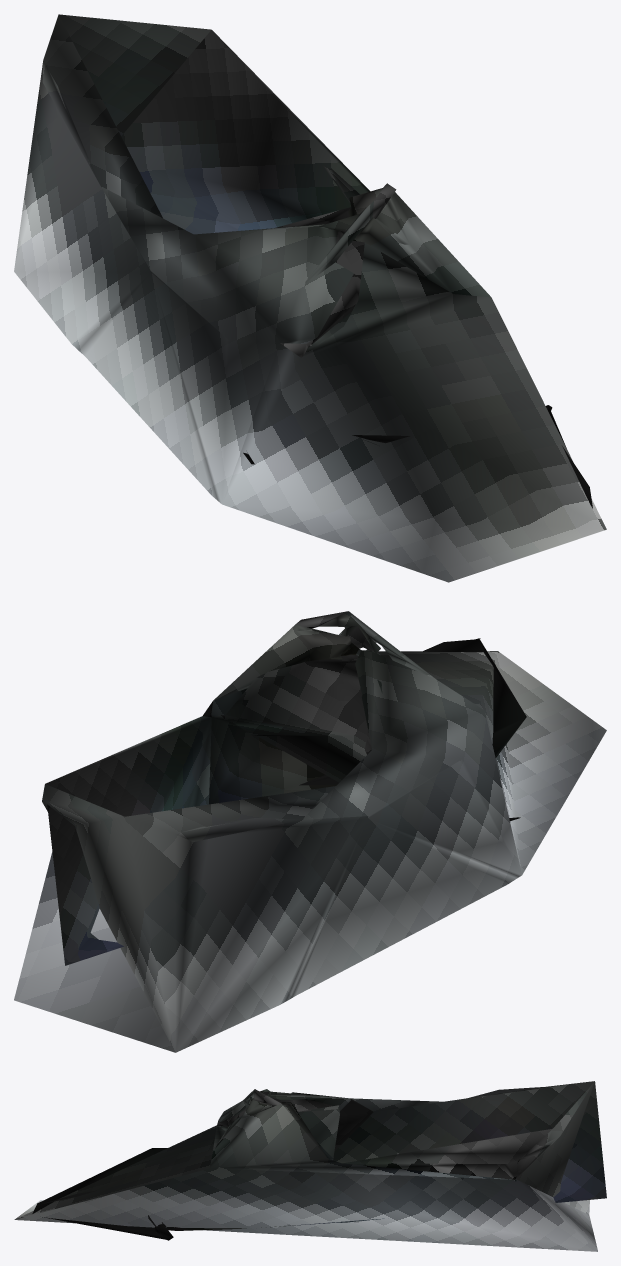
Rendered from Womens_Suede_Bahama_in_Graphite_Suede_t22AJSRjBOX-low.glb.
3 renders of one model, top to bottom at view 1: azimuth 30°, elevation 25°; view 2: azimuth 150°, elevation 25°; view 3: azimuth 270°, elevation 25°, orthographic. The views are drawn at different scales.
Visible parts, largest first — view 1: Womens_Suede_Bahama_in_Graphite_Suede_t22AJSRjBOX; view 2: Womens_Suede_Bahama_in_Graphite_Suede_t22AJSRjBOX; view 3: Womens_Suede_Bahama_in_Graphite_Suede_t22AJSRjBOX.
Boxes of the visible parts, box(x1,y1,x2,y2) form: Womens_Suede_Bahama_in_Graphite_Suede_t22AJSRjBOX: box(14, 14, 606, 582); Womens_Suede_Bahama_in_Graphite_Suede_t22AJSRjBOX: box(14, 611, 606, 1052); Womens_Suede_Bahama_in_Graphite_Suede_t22AJSRjBOX: box(14, 1081, 606, 1251).
Size of the model in its own units: 0.0791 by 0.0704 by 0.2426.
1 material, 1 textured.
